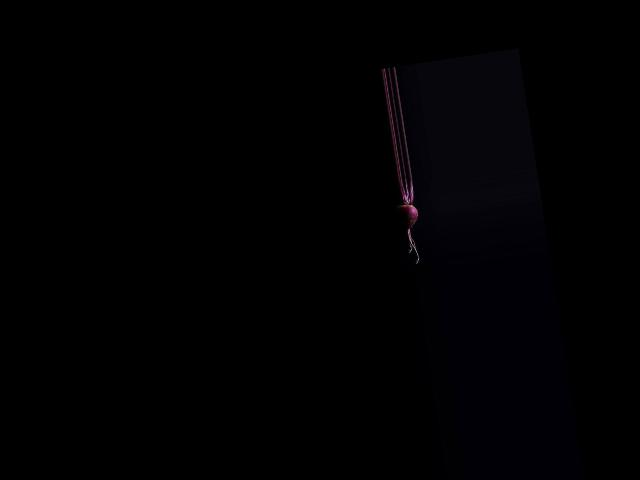beet: (390, 178, 426, 266)
